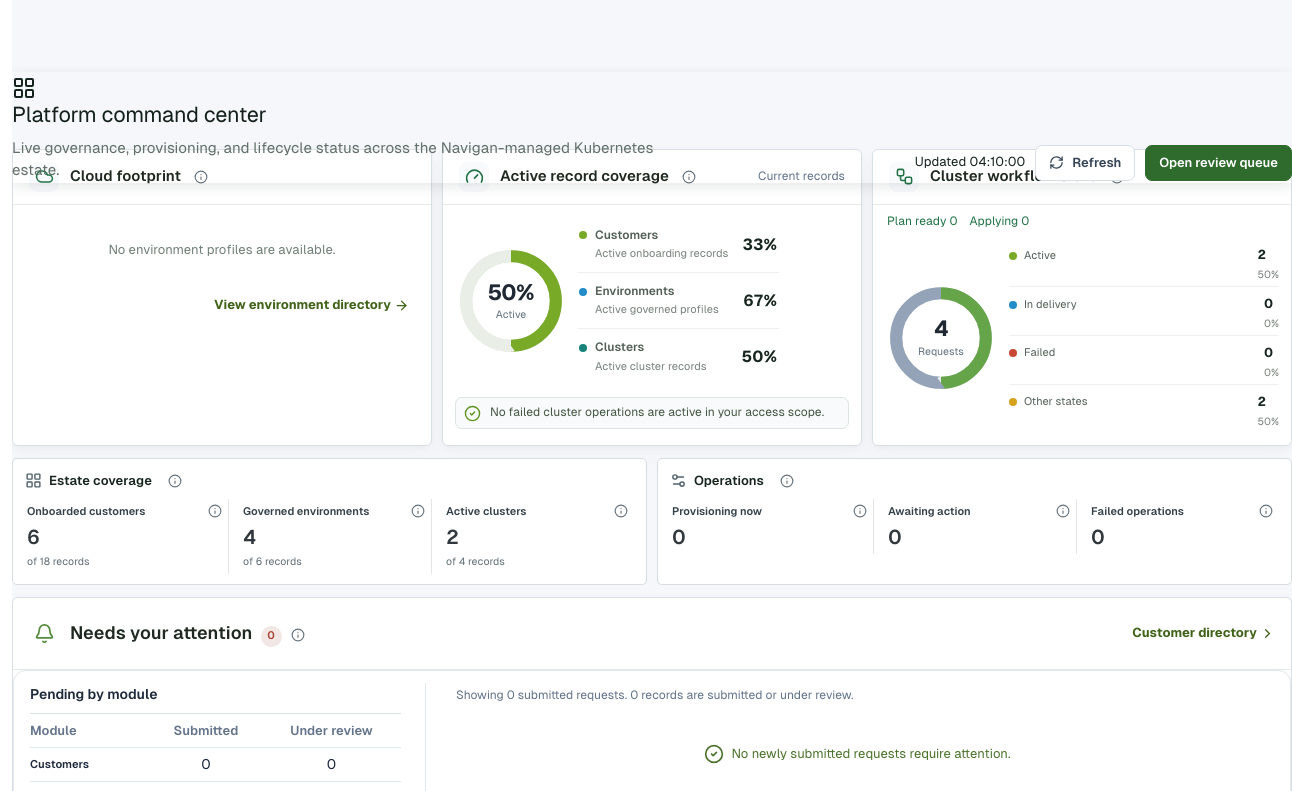
Scenario: Dashboard navigation and freshness › announces failed refreshes instead of implying all data is current
This screenshot has width=1292, height=791.
Click the button "Refresh": [1085, 163] box x1=1035 y1=145 x2=1135 y2=181
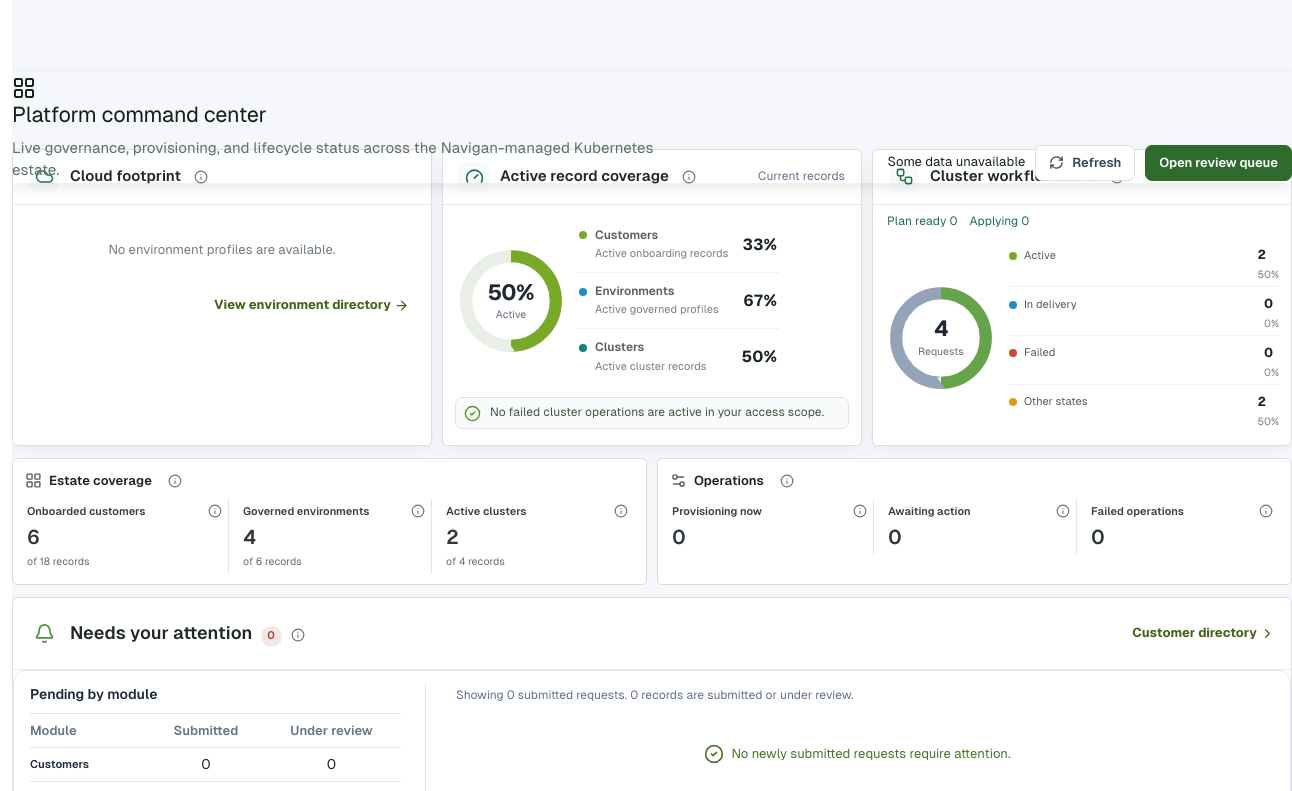
Now the message reads "Some data unavailable", box x1=888 y1=154 x2=1025 y2=169
